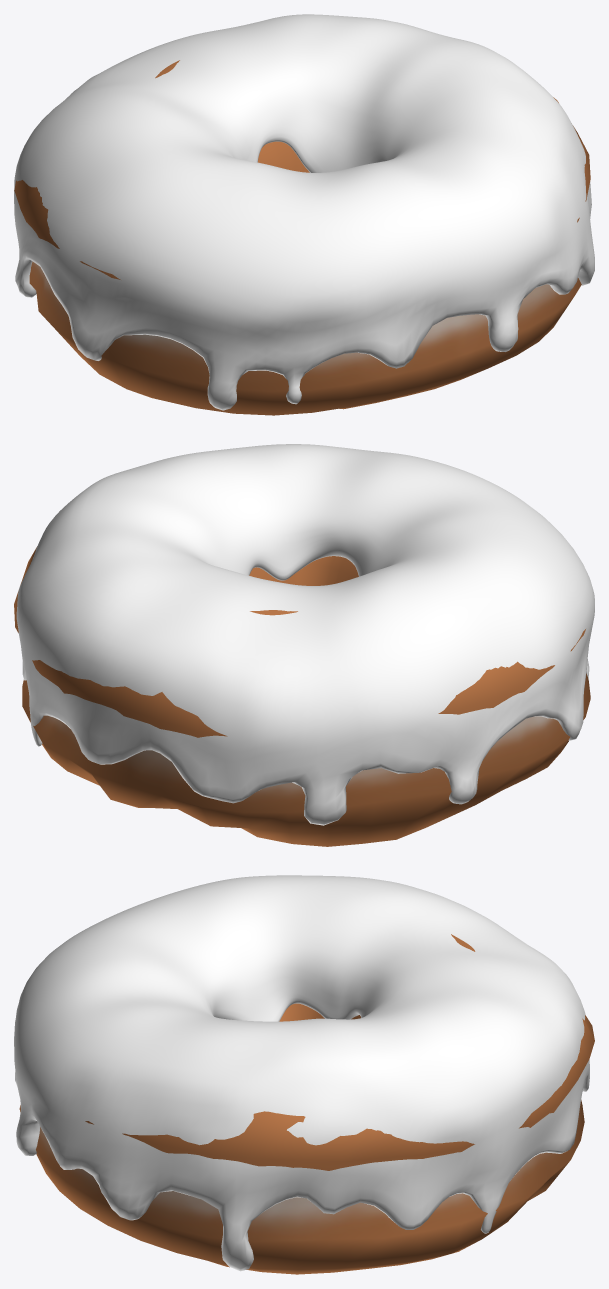
File: doNut.glb
The picture shows the model from 3 angles, top to bottom: view 1: azimuth 30°, elevation 25°; view 2: azimuth 150°, elevation 25°; view 3: azimuth 270°, elevation 25°; orthographic projection.
Parts seen in each view (by area): view 1: icing, donut; view 2: icing, donut; view 3: icing, donut.
Boxes of the visible parts, x1,y1,x2,y2 form: icing: (14,14,594,410); donut: (14,60,590,415); icing: (16,444,594,825); donut: (14,546,590,846); icing: (14,875,589,1271); donut: (19,934,594,1274).
Size of what is drawn, in the model's own units: 0.096 by 0.0424 by 0.095.
2 materials, 1 textured.
